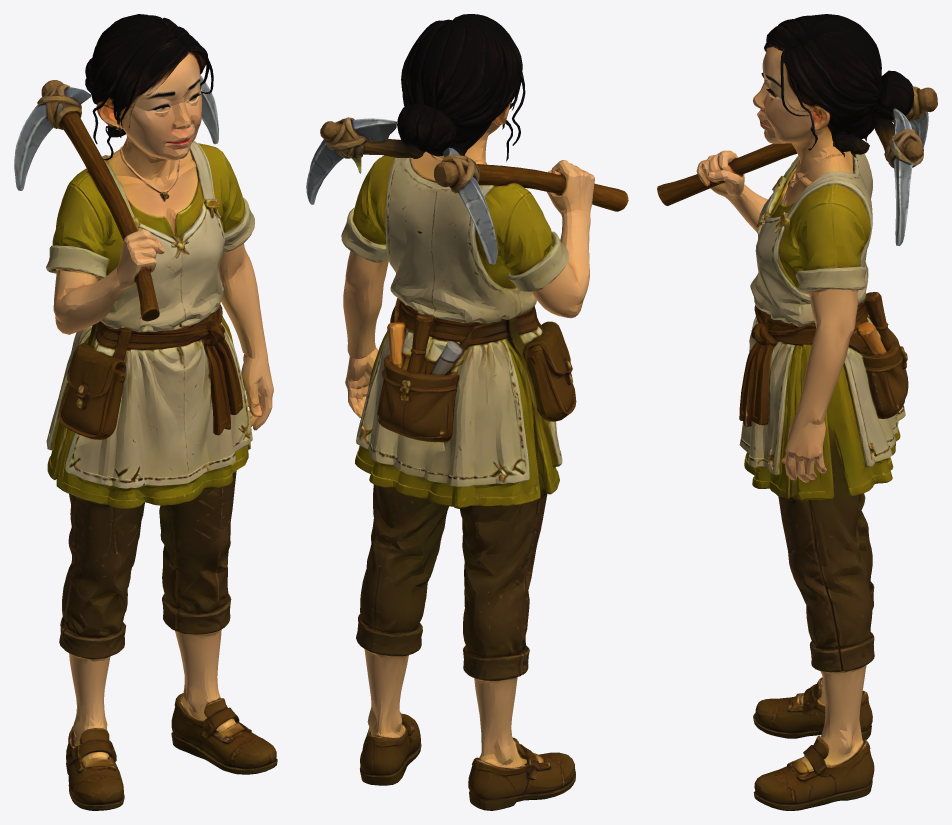
The model's file is Lisa-peasant_pbr.glb.
The picture shows the model from 3 angles, left to right: view 1: azimuth 30°, elevation 25°; view 2: azimuth 150°, elevation 25°; view 3: azimuth 270°, elevation 25°; orthographic projection. The views are drawn at different scales.
Parts seen in each view (by area): view 1: model; view 2: model; view 3: model.
Part boxes in pixels (left/top/right/bottom): model: left=14, top=14, right=277, bottom=810; model: left=306, top=14, right=628, bottom=810; model: left=657, top=14, right=937, bottom=810.
Bounding box in the file's own units: 0.5904 × 1.9 × 0.651.
1 material, 1 textured.
